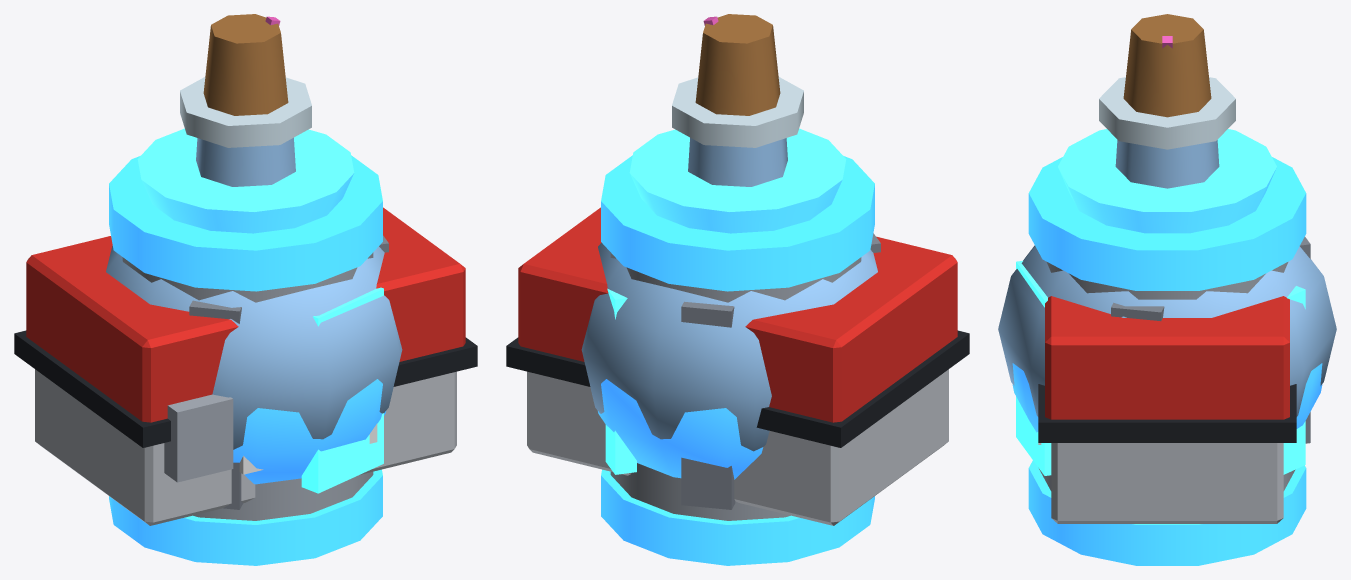
The model's file is heals.glb.
The picture shows the model from 3 angles, left to right: view 1: azimuth 30°, elevation 25°; view 2: azimuth 150°, elevation 25°; view 3: azimuth 270°, elevation 25°; orthographic projection.
Visible parts, largest first — view 1: heal_medkit_e6322a, heal_chug_2f86e8, heal_shield_9fd0ff, heal_medkit_c9ced6, heal_chug_3a9aff, heal_shield_b07a42, heal_shield_2f7bff, heal_medkit_23262c, heal_chug_aab2bd, heal_shield_dff4ff, heal_medkit_aab2bd, heal_chug_3dffc8 (+1 smaller); view 2: heal_medkit_e6322a, heal_chug_2f86e8, heal_shield_9fd0ff, heal_medkit_c9ced6, heal_chug_3a9aff, heal_medkit_23262c, heal_shield_b07a42, heal_shield_2f7bff, heal_shield_dff4ff, heal_chug_aab2bd, heal_chug_8a929e, heal_chug_3dffc8; view 3: heal_chug_2f86e8, heal_medkit_e6322a, heal_medkit_c9ced6, heal_shield_9fd0ff, heal_chug_3a9aff, heal_shield_b07a42, heal_medkit_23262c, heal_shield_dff4ff, heal_chug_3dffc8, heal_chug_aab2bd, heal_shield_2f7bff, heal_chug_8a929e.
Boxes of the visible parts, bbox=[...] form: heal_medkit_e6322a: bbox=[26, 207, 465, 422]; heal_chug_2f86e8: bbox=[109, 155, 382, 565]; heal_shield_9fd0ff: bbox=[106, 137, 402, 449]; heal_medkit_c9ced6: bbox=[35, 369, 456, 525]; heal_chug_3a9aff: bbox=[137, 128, 354, 233]; heal_shield_b07a42: bbox=[203, 14, 288, 115]; heal_shield_2f7bff: bbox=[233, 379, 385, 484]; heal_medkit_23262c: bbox=[14, 330, 477, 447]; heal_chug_aab2bd: bbox=[122, 252, 373, 520]; heal_shield_dff4ff: bbox=[180, 77, 311, 147]; heal_medkit_aab2bd: bbox=[164, 394, 233, 482]; heal_chug_3dffc8: bbox=[301, 287, 383, 493]; heal_medkit_e6322a: bbox=[518, 207, 957, 422]; heal_chug_2f86e8: bbox=[601, 155, 874, 565]; heal_shield_9fd0ff: bbox=[581, 137, 877, 451]; heal_medkit_c9ced6: bbox=[527, 369, 948, 525]; heal_chug_3a9aff: bbox=[629, 128, 846, 233]; heal_medkit_23262c: bbox=[506, 330, 969, 447]; heal_shield_b07a42: bbox=[695, 14, 780, 115]; heal_shield_2f7bff: bbox=[598, 379, 763, 479]; heal_shield_dff4ff: bbox=[672, 77, 803, 147]; heal_chug_aab2bd: bbox=[610, 252, 861, 520]; heal_chug_8a929e: bbox=[681, 233, 880, 509]; heal_chug_3dffc8: bbox=[605, 288, 636, 474]; heal_chug_2f86e8: bbox=[1028, 157, 1306, 565]; heal_medkit_e6322a: bbox=[1045, 296, 1289, 419]; heal_medkit_c9ced6: bbox=[1051, 443, 1283, 523]; heal_shield_9fd0ff: bbox=[998, 140, 1336, 416]; heal_chug_3a9aff: bbox=[1058, 129, 1276, 233]; heal_shield_b07a42: bbox=[1123, 14, 1211, 117]; heal_medkit_23262c: bbox=[1038, 384, 1296, 442]; heal_shield_dff4ff: bbox=[1099, 77, 1235, 149]; heal_chug_3dffc8: bbox=[1016, 260, 1305, 475]; heal_chug_aab2bd: bbox=[1039, 262, 1295, 490]; heal_shield_2f7bff: bbox=[1012, 363, 1322, 432]; heal_chug_8a929e: bbox=[1111, 237, 1310, 443].
Bounding box in the file's own units: 0.6 × 0.8279 × 0.525.
